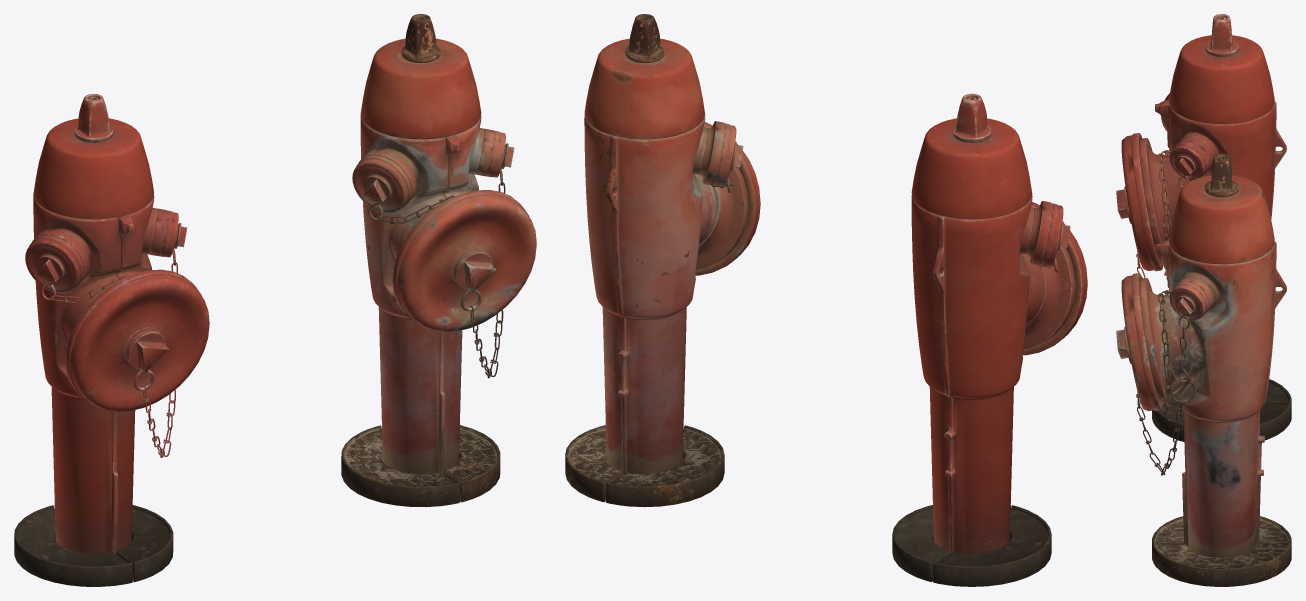
File: fire_hydrant.glb
3 views of the same model, side by side, from view 1: azimuth 30°, elevation 25°; view 2: azimuth 150°, elevation 25°; view 3: azimuth 270°, elevation 25° (orthographic). The views are drawn at different scales.
Visible parts, largest first — view 1: fire_hydrant_aged, fire_hydrant; view 2: fire_hydrant, fire_hydrant_aged; view 3: fire_hydrant_aged, fire_hydrant.
Part boxes in pixels (x1=…): fire_hydrant_aged: x1=341, y1=14, x2=536, y2=506; fire_hydrant: x1=14, y1=93, x2=209, y2=586; fire_hydrant: x1=892, y1=93, x2=1087, y2=586; fire_hydrant_aged: x1=565, y1=14, x2=760, y2=507; fire_hydrant_aged: x1=1116, y1=154, x2=1291, y2=586; fire_hydrant: x1=1116, y1=14, x2=1291, y2=441.
Size of the model in its own units: 0.8745 by 0.7995 by 0.3177.
2 materials, 2 textured.
